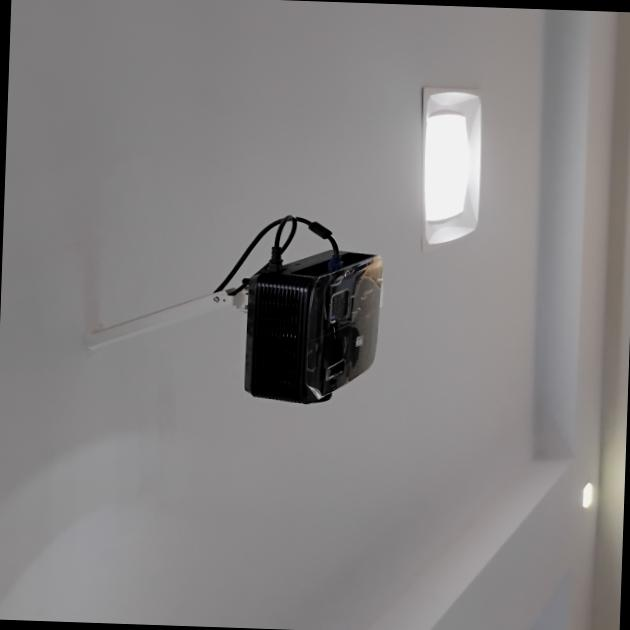light: (398, 74, 524, 258)
projector: (157, 209, 402, 434)
